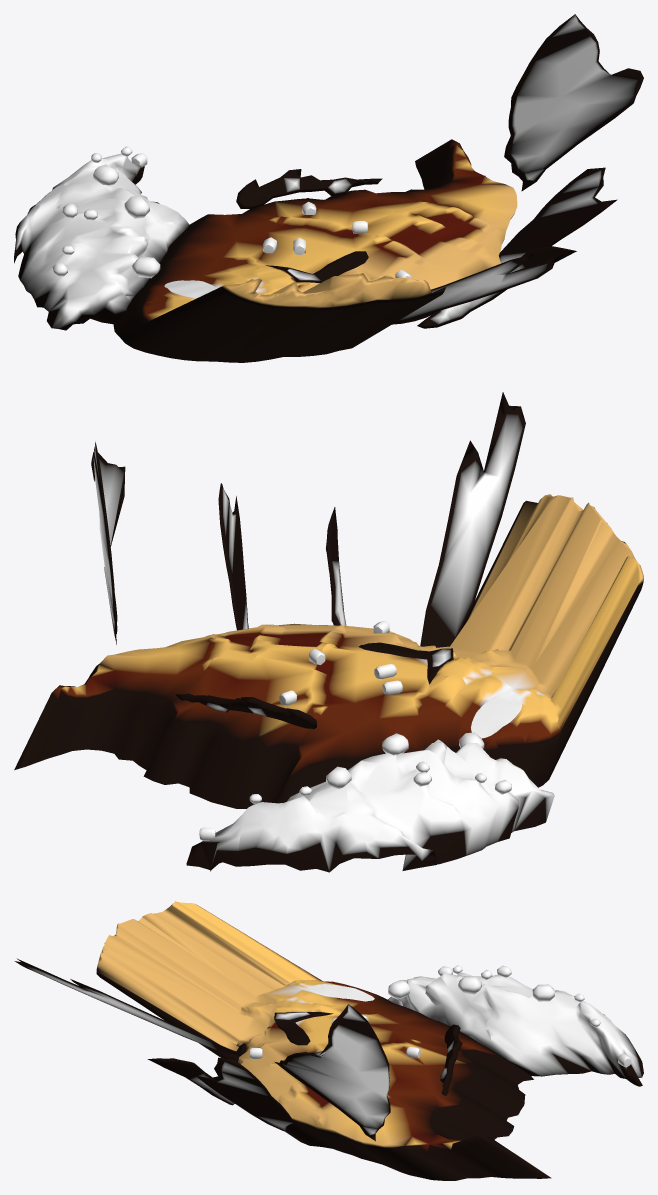
Rendered from SM_D10_wok.fbx.
3 views of the same model, one above another, from view 1: azimuth 30°, elevation 25°; view 2: azimuth 150°, elevation 25°; view 3: azimuth 270°, elevation 25° (orthographic). The views are drawn at different scales.
Parts seen in each view (by area): view 1: SM_D10_wok; view 2: SM_D10_wok; view 3: SM_D10_wok.
Boxes of the visible parts, bbox=[...] form: SM_D10_wok: bbox=[14, 14, 643, 362]; SM_D10_wok: bbox=[14, 392, 643, 872]; SM_D10_wok: bbox=[14, 901, 643, 1180].
Size of the model in its own units: 0.2028 by 0.085 by 0.2528.
